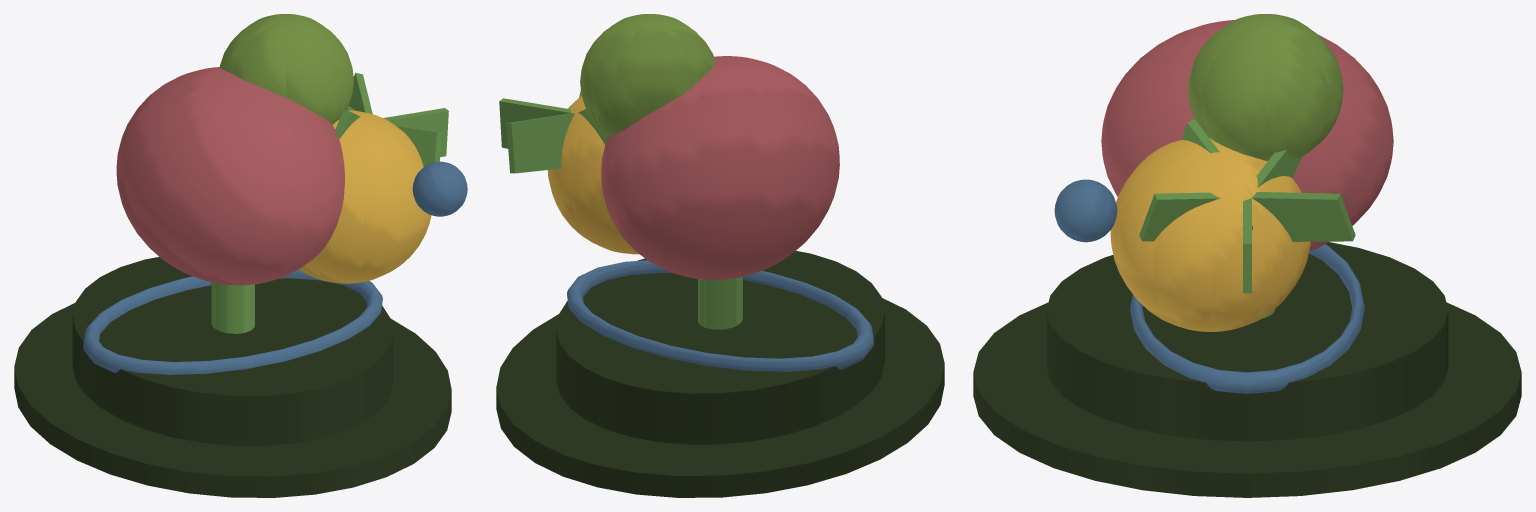
File: 0099_植物图鉴_蒲公英.glb
3 renders of one model, left to right at view 1: azimuth 30°, elevation 25°; view 2: azimuth 150°, elevation 25°; view 3: azimuth 270°, elevation 25°, orthographic. The views are drawn at different scales.
Visible parts, largest first — view 1: card_0099; view 2: card_0099; view 3: card_0099.
Boxes of the visible parts, x1,y1,x2,y2 form: card_0099: (14,14,467,497); card_0099: (496,14,944,497); card_0099: (973,14,1521,497).
Bounding box in the file's own units: 1.16 × 1 × 1.21.
